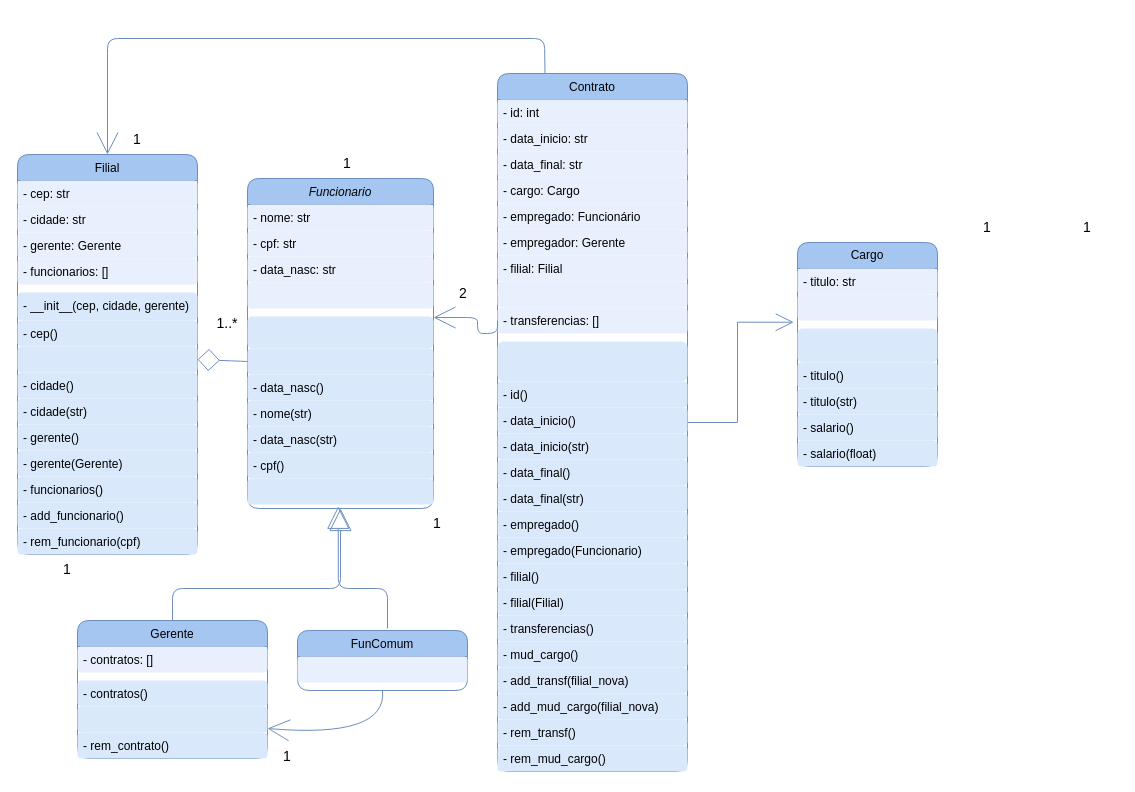
Image size: 1135x792. Some labels were removed from this diagram. Each missing label, with the centre of its shape:
- __init__(data_inicio, cargo, empregado, filial): the point at 592,361
- __init__(nome, cpf, data_nasc): the point at 340,332
- __init__(titulo, salario): the point at 867,345
- add_contrato(): the point at 172,719
- atividade: bool: the point at 340,295
- cep(str): the point at 107,359
- cpf(str): the point at 340,491
- mud_cargos: []: the point at 592,294
- nome(): the point at 340,361
- salario: float: the point at 867,307
